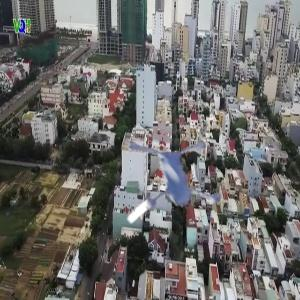drone: (87, 108, 239, 260)
